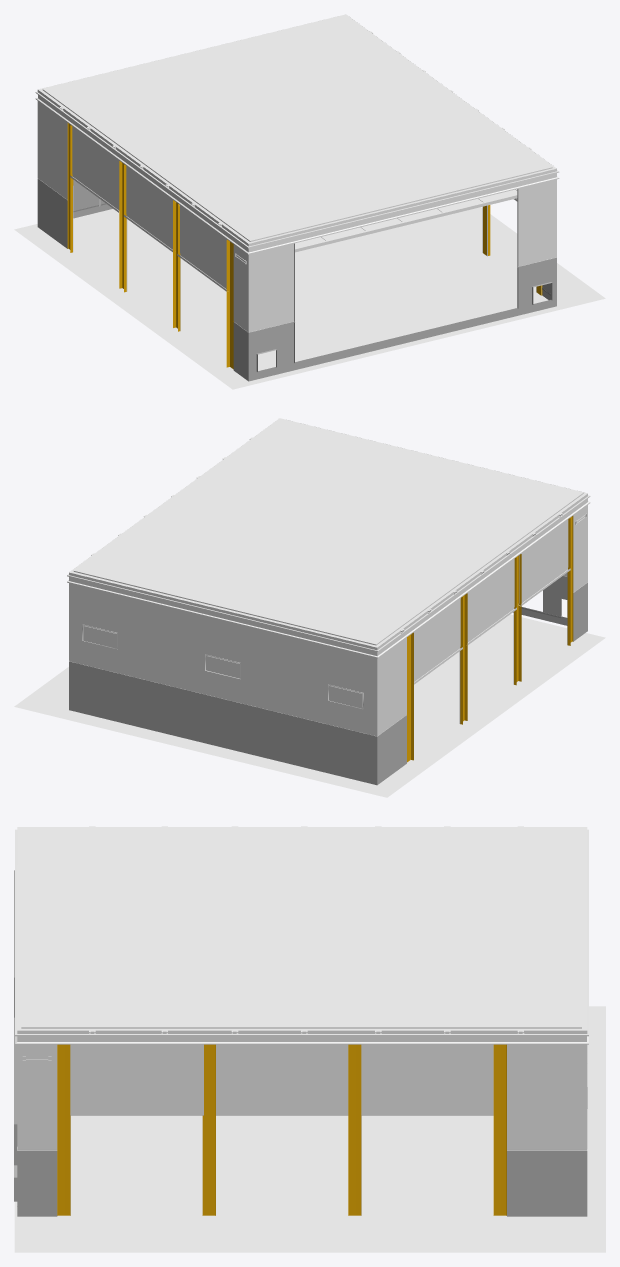
3 views of the same model, one above another, from view 1: azimuth 30°, elevation 25°; view 2: azimuth 150°, elevation 25°; view 3: azimuth 270°, elevation 25° (orthographic). The views are drawn at different scales.
Parts seen in each view (by area): view 1: SM_H_Building_FutureTech_TransferStation_InterWall_01; view 2: SM_H_Building_FutureTech_TransferStation_InterWall_01; view 3: SM_H_Building_FutureTech_TransferStation_InterWall_01.
Boxes of the visible parts, box(x1,y1,x2,y2) form: SM_H_Building_FutureTech_TransferStation_InterWall_01: box(14, 14, 605, 389); SM_H_Building_FutureTech_TransferStation_InterWall_01: box(14, 418, 605, 797); SM_H_Building_FutureTech_TransferStation_InterWall_01: box(14, 826, 605, 1252).
Bounding box in the file's own units: 2064 × 2030 × 738.
